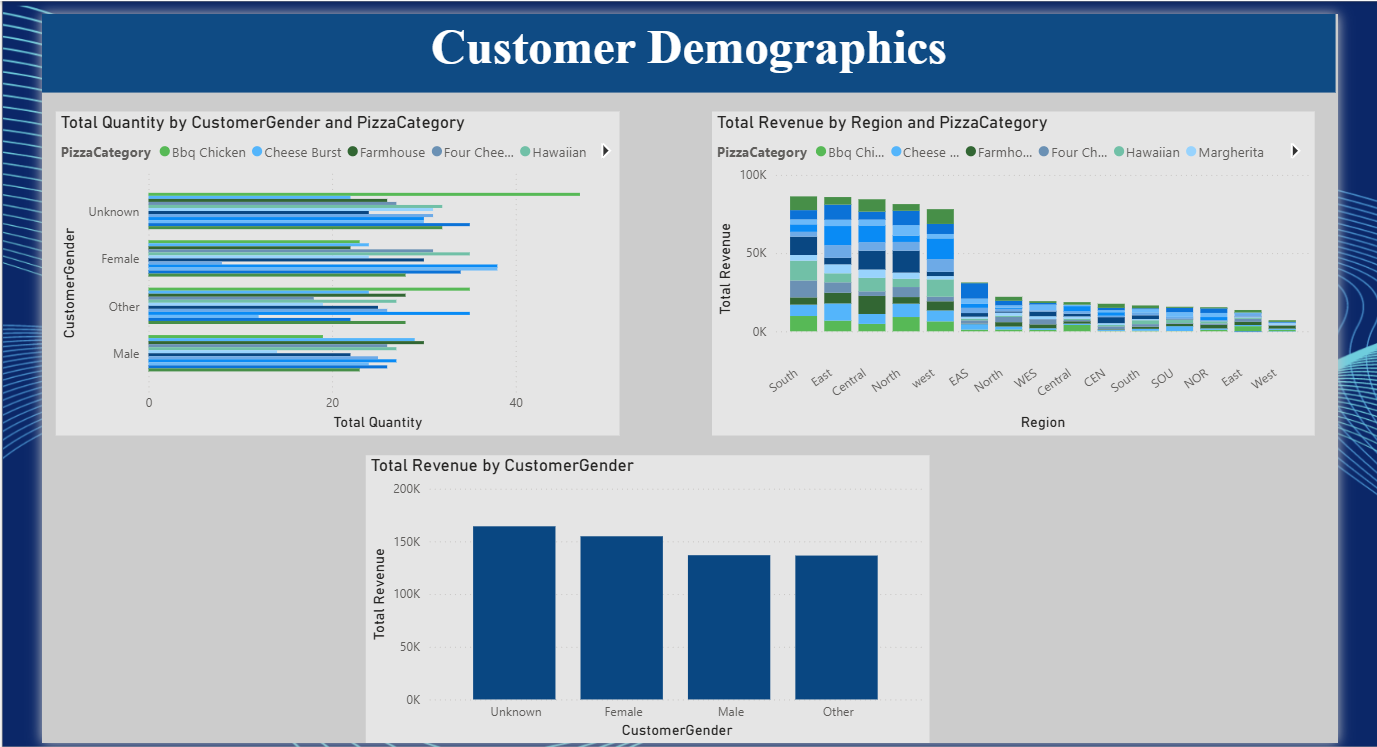

Layout of this report page (visuals, bound fields, positions):
{"tool":"powerbi","page":{"name":"Page 3","canvas":[1280,720],"ordinal":2},"visuals":[{"type":"textbox","box":[0,0,1277.5,77.5],"z":0},{"type":"clusteredColumnChart","fields":{"Category":["pizza_sales_messy_1000.CustomerGender"],"Y":["pizza_sales_messy_1000.Total Revenue"]},"box":[319.7,452.8,557.1,267.6],"z":1000},{"type":"columnChart","fields":{"Category":["pizza_sales_messy_1000.Region"],"Y":["pizza_sales_messy_1000.Total Revenue"],"Series":["pizza_sales_messy_1000.PizzaCategory"]},"box":[661.4,96.1,595.5,319.7],"z":2000},{"type":"clusteredBarChart","fields":{"Category":["pizza_sales_messy_1000.CustomerGender"],"Y":["pizza_sales_messy_1000.Total Quantity"],"Series":["pizza_sales_messy_1000.PizzaCategory"]},"box":[13.7,96.1,557.1,319.7],"z":2001}]}

Visuals, with their boxes on the page's 1280x720 design canvas (x1, y1, x2, y2). These are canvas units, not pixel positions in the 1377x747 screenshot, which may show the page scaled, cropped or inside an application window:
textbox: 0, 0, 1278, 78
clusteredColumnChart - pizza_sales_messy_1000.CustomerGender x pizza_sales_messy_1000.Total Revenue: 320, 453, 877, 720
columnChart - pizza_sales_messy_1000.Region x pizza_sales_messy_1000.Total Revenue: 661, 96, 1257, 416
clusteredBarChart - pizza_sales_messy_1000.CustomerGender x pizza_sales_messy_1000.Total Quantity: 14, 96, 571, 416
